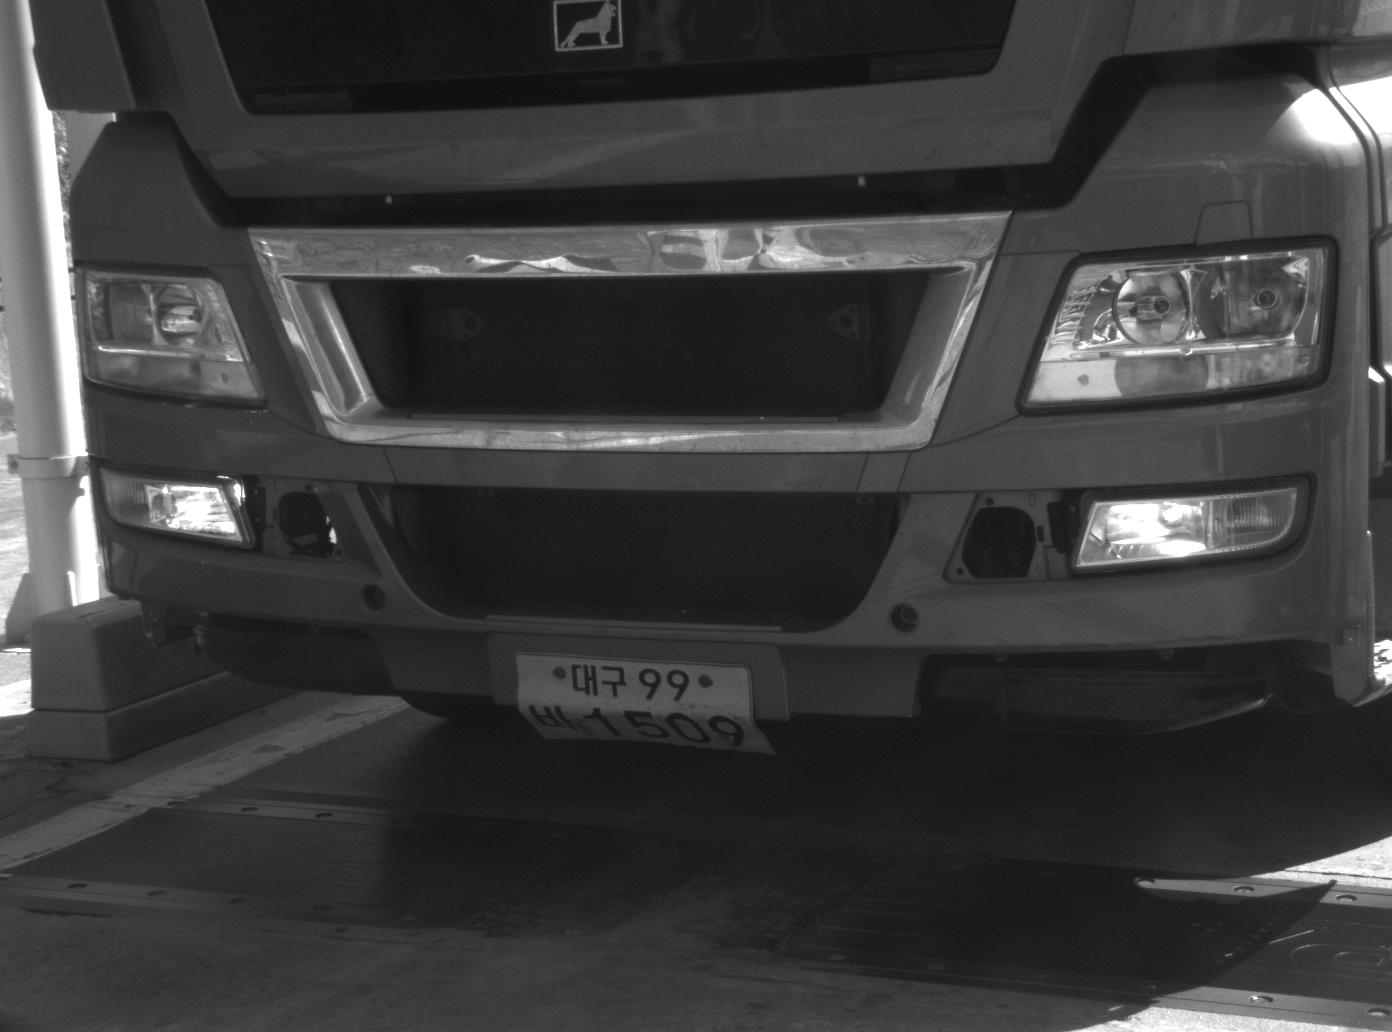car: (23, 1, 1392, 757)
plate: (511, 653, 781, 759)
